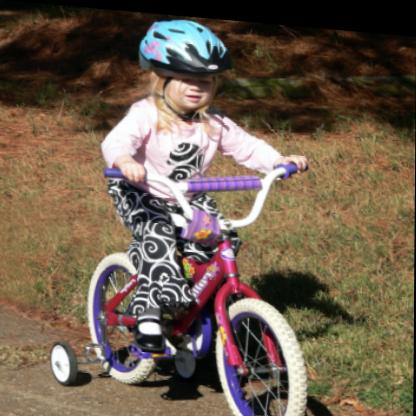With Helmet: (132, 15, 236, 122)
